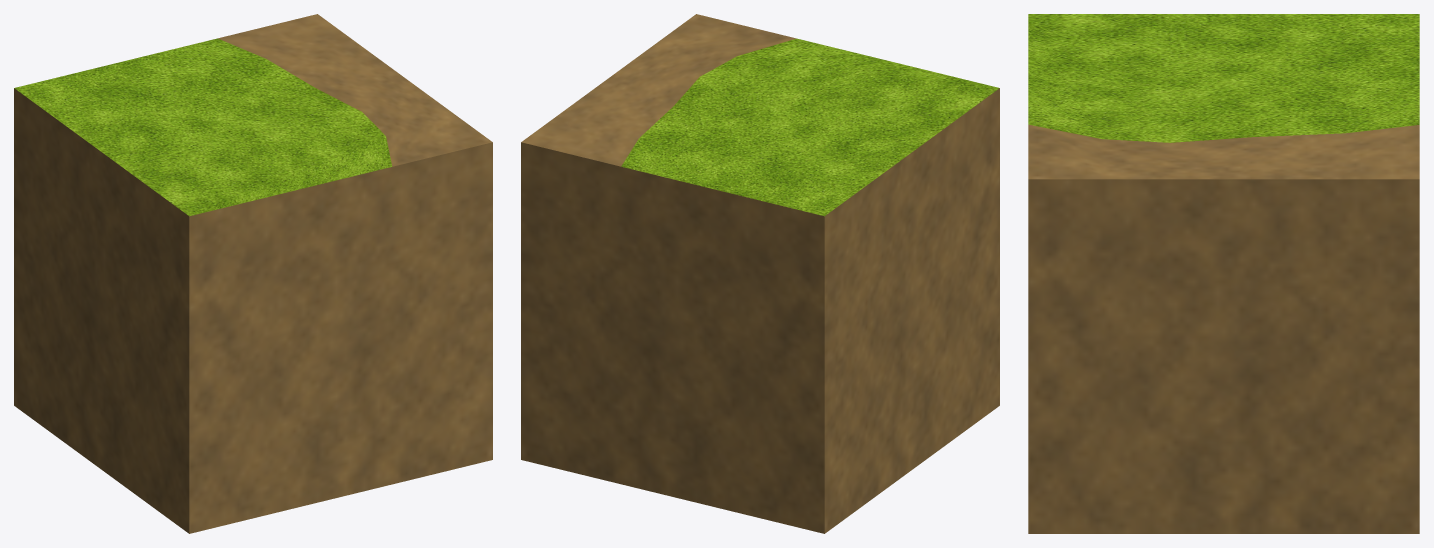
The model's file is kusa.fbx.
3 renders of one model, left to right at view 1: azimuth 30°, elevation 25°; view 2: azimuth 150°, elevation 25°; view 3: azimuth 270°, elevation 25°, orthographic. The views are drawn at different scales.
Visible parts, largest first — view 1: pCube1; view 2: pCube1; view 3: pCube1.
Boxes of the visible parts, x1,y1,x2,y2 form: pCube1: (14, 14, 492, 533); pCube1: (521, 14, 999, 533); pCube1: (1028, 14, 1419, 533).
Size of the model in its own units: 100 by 100 by 100.
